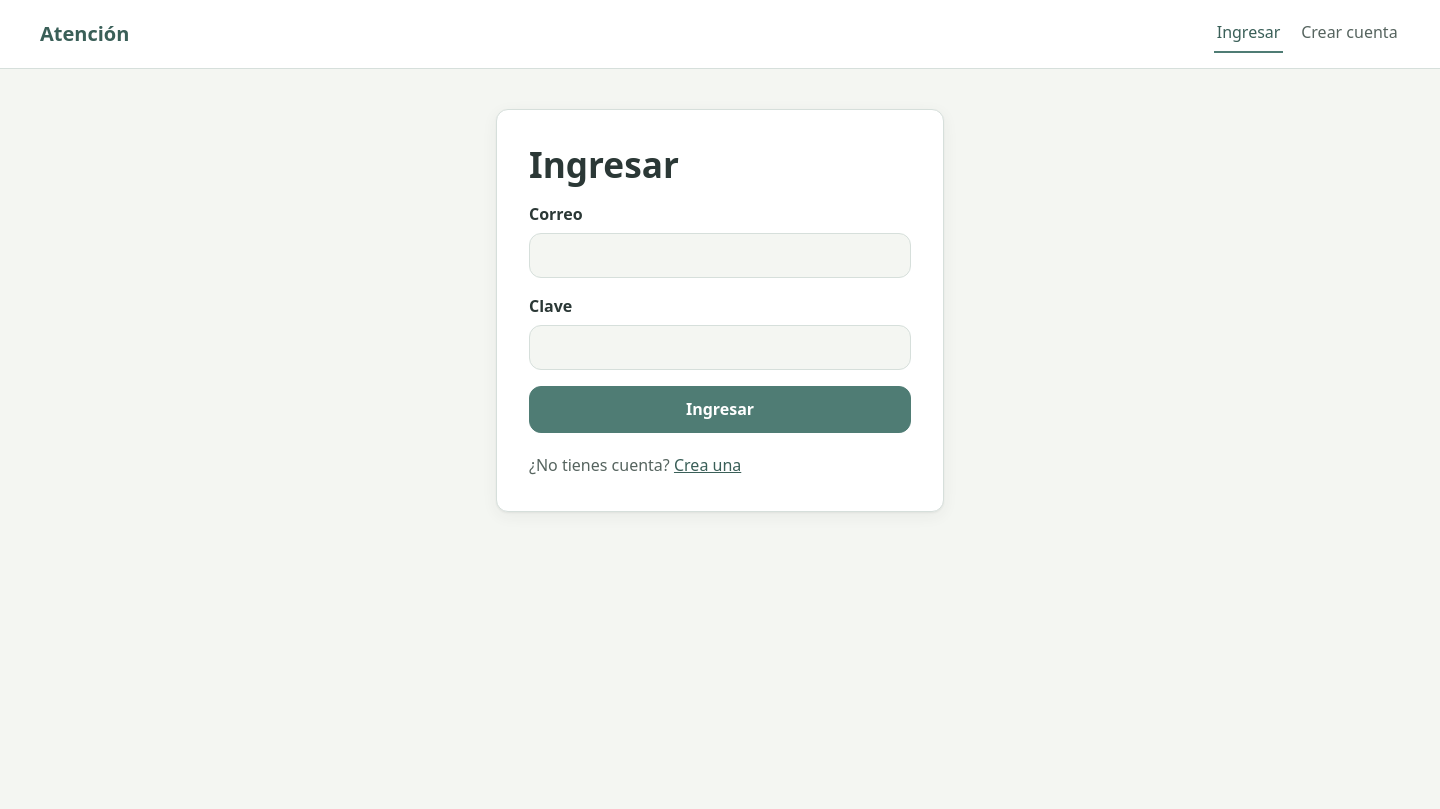
Test: al ingresar desde una página privada vuelve a esa página
This screenshot has width=1440, height=809.
Type "ana@test.local" into the field labelled "Correo". click: (720, 255)
box: [529,233,911,278]
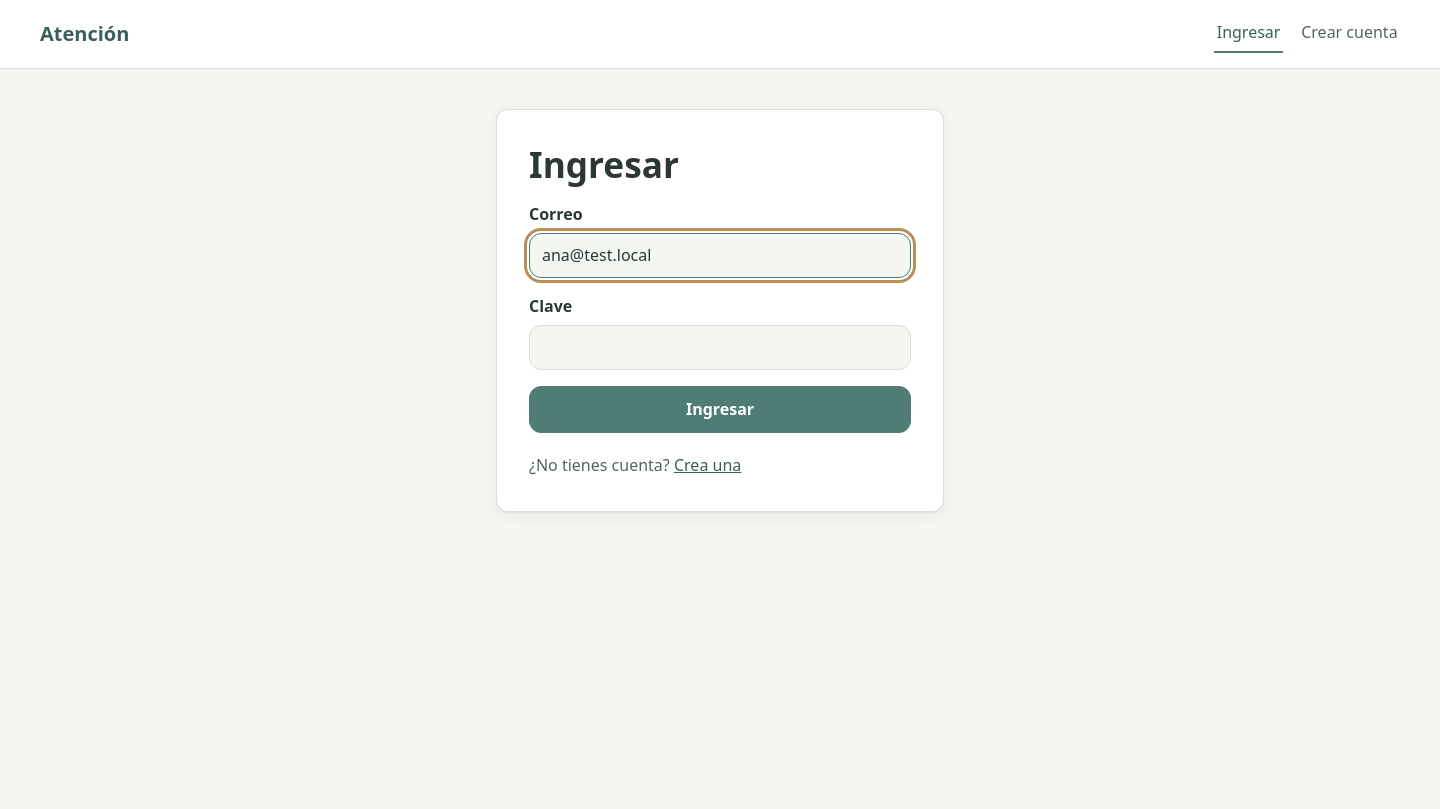
Type "Clave!" into the password field labelled "Clave". click: (720, 348)
box: [529,325,911,370]
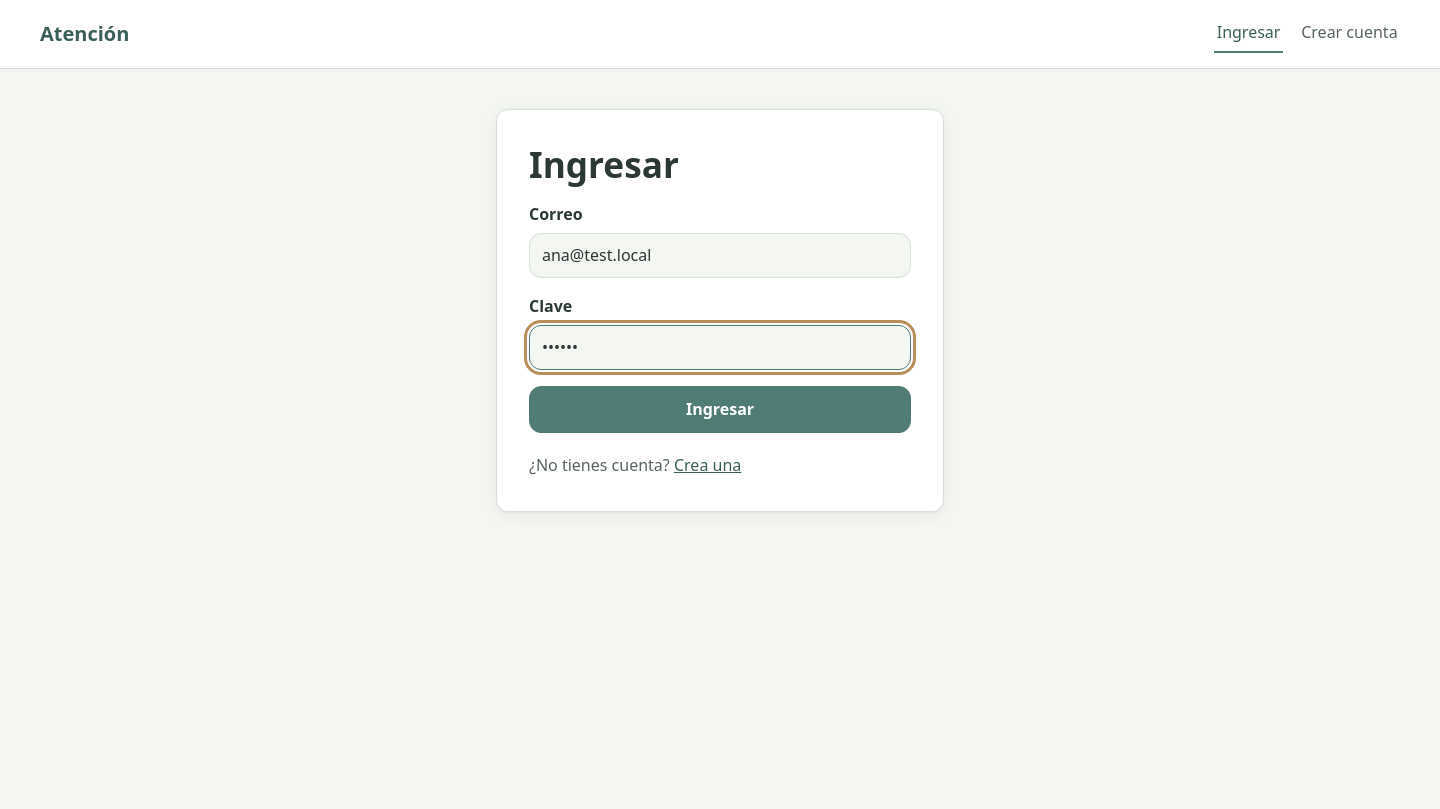
Click the button "Ingresar". click: (720, 410)
box: [529,386,911,433]
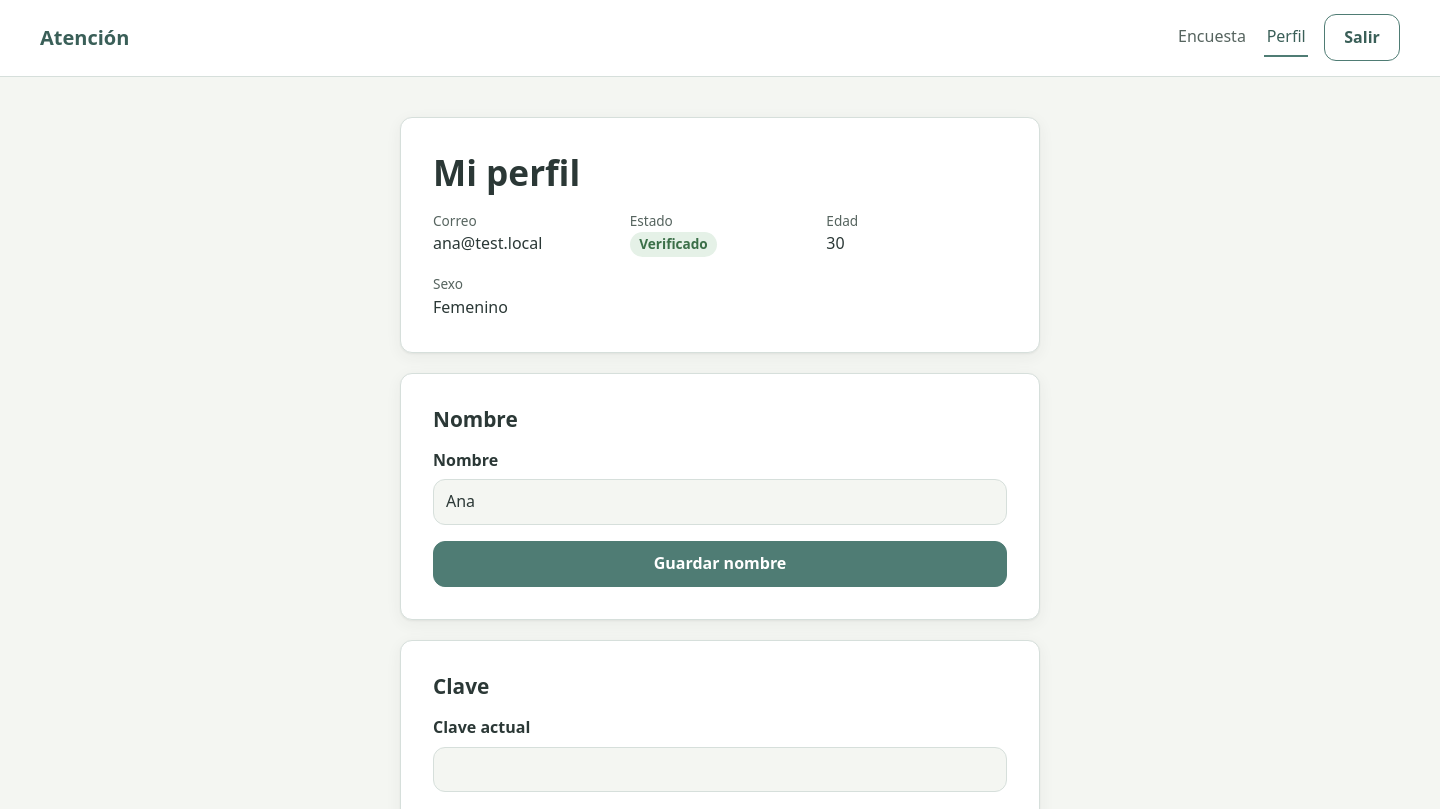
Result: the heading "Mi perfil" is shown at [433,148,580,196]
